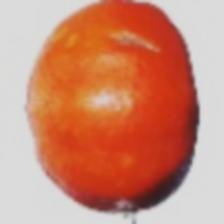tangerine: (32, 19, 209, 162)
